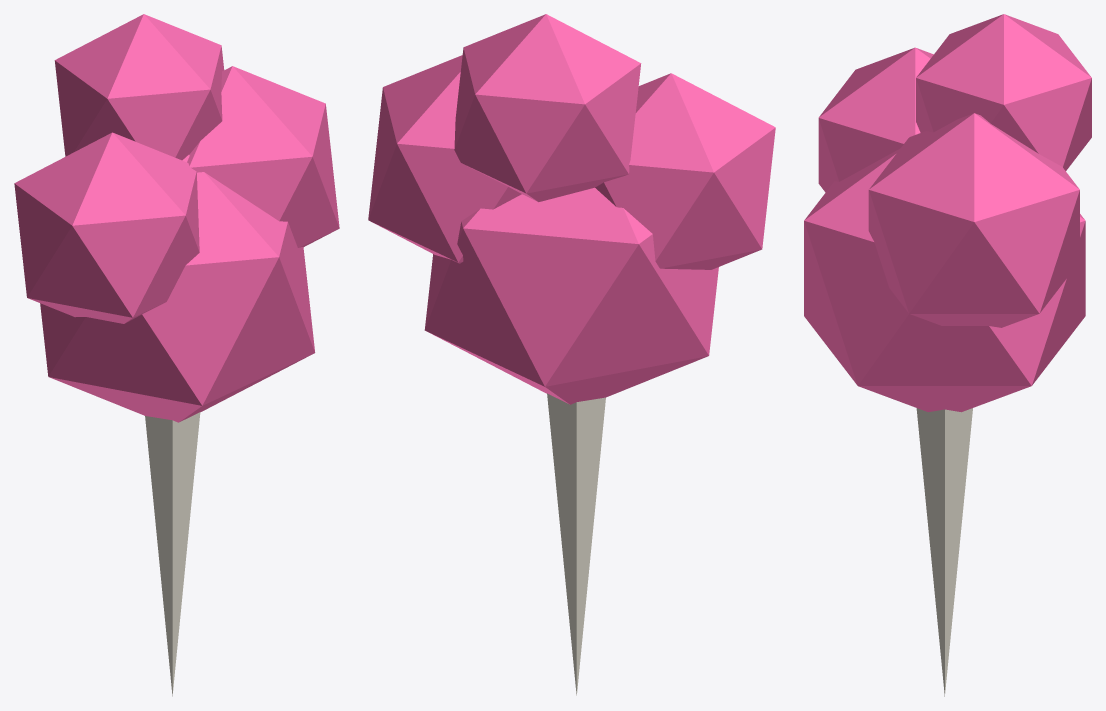
Rendered from CottonCandy.fbx.
3 renders of one model, left to right at view 1: azimuth 30°, elevation 25°; view 2: azimuth 150°, elevation 25°; view 3: azimuth 270°, elevation 25°, orthographic. The views are drawn at different scales.
Visible parts, largest first — view 1: CottonCandy; view 2: CottonCandy; view 3: CottonCandy.
Part boxes in pixels (x1,y1,x2,y2): CottonCandy: (14,14,339,696); CottonCandy: (368,14,775,695); CottonCandy: (804,14,1091,696).
Bounding box in the file's own units: 1.32 × 2.55 × 0.9741.
Materials: 1 (1 with a texture image).
